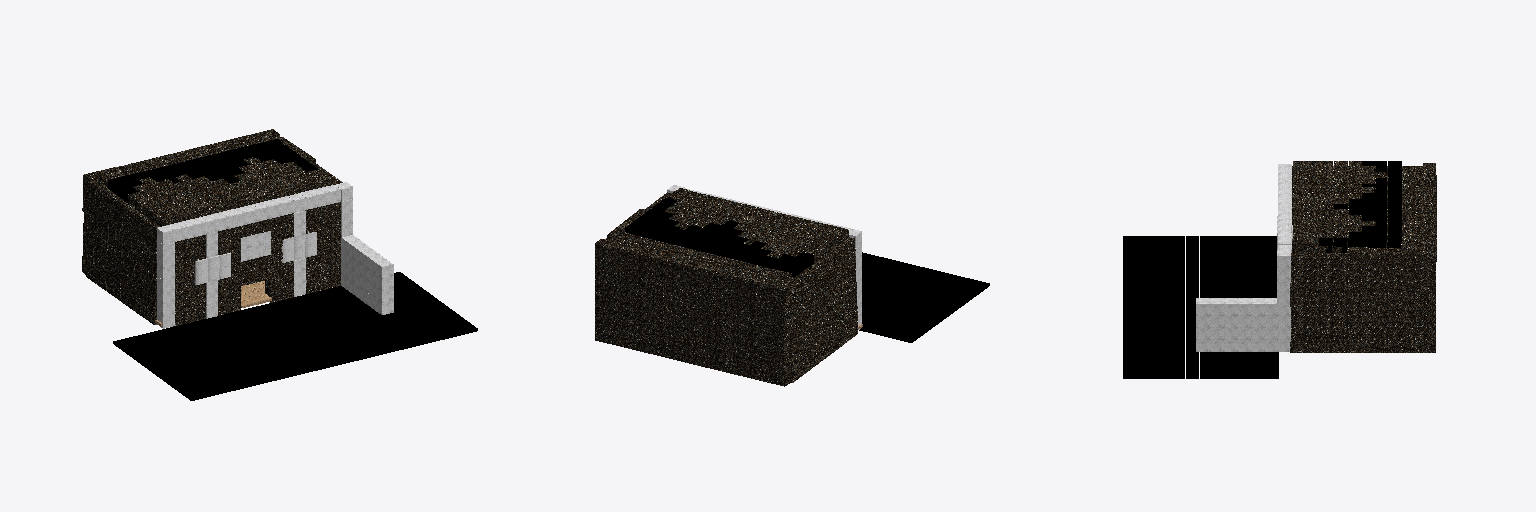
The picture shows the model from 3 angles: view 1: azimuth 30°, elevation 25°; view 2: azimuth 150°, elevation 25°; view 3: azimuth 270°, elevation 25°; orthographic projection.
Visible parts, largest first — view 1: pasted__pasted__pasted__pasted__group46_pasted__group21_pasted__, pasted__group83_pasted__group82_pasted__pasted__pasted__pasted__, pasted__pasted__pasted__pasted__pasted__pasted__pasted__pasted__, group12 pasted__pasted__pasted__group5 pasted__pasted__group7 pa, group97, group126 pasted__pasted__pasted__pasted__pasted__pasted__pasted_, pasted__pasted__pasted__pasted__pasted__pasted__pCube1 pasted__p, pasted__pasted__group5 pasted__group7 group12 pasted__pasted__pa; view 2: pasted__pasted__pasted__pasted__group46_pasted__group21_pasted__, pasted__group83_pasted__group82_pasted__pasted__pasted__pasted__, group18 pasted__pasted__pasted__group5 pasted__pasted__group7 pa, group18 pasted__group12 pasted__pasted__pasted__pasted__group5 p, pasted__pasted__group5 pasted__group7 group18 pasted__pasted__pa; view 3: pasted__pasted__pasted__pasted__group46_pasted__group21_pasted__, pasted__group83_pasted__group82_pasted__pasted__pasted__pasted__, pasted__pasted__pasted__pasted__pasted__pasted__pasted__pasted__, group126 pasted__pasted__pasted__pasted__pasted__pasted__pasted_.
Part boxes in pixels (x1,y1,x2,y2): pasted__pasted__pasted__pasted__group46_pasted__group21_pasted__: (82,129,352,324); pasted__group83_pasted__group82_pasted__pasted__pasted__pasted__: (113,272,477,400); pasted__pasted__pasted__pasted__pasted__pasted__pasted__pasted__: (157,244,367,328); group12 pasted__pasted__pasted__group5 pasted__pasted__group7 pa: (265,250,340,290); group97: (195,253,230,284); group126 pasted__pasted__pasted__pasted__pasted__pasted__pasted_: (368,260,393,290); pasted__pasted__pasted__pasted__pasted__pasted__pCube1 pasted__p: (183,232,316,318); pasted__pasted__group5 pasted__group7 group12 pasted__pasted__pa: (265,274,340,302); pasted__pasted__pasted__pasted__group46_pasted__group21_pasted__: (595,185,861,382); pasted__group83_pasted__group82_pasted__pasted__pasted__pasted__: (859,252,989,342); group18 pasted__pasted__pasted__group5 pasted__pasted__group7 pa: (606,331,772,370); group18 pasted__group12 pasted__pasted__pasted__pasted__group5 p: (606,319,674,346); pasted__pasted__group5 pasted__group7 group18 pasted__pasted__pa: (709,356,773,383); pasted__pasted__pasted__pasted__group46_pasted__group21_pasted__: (1277,161,1436,352); pasted__group83_pasted__group82_pasted__pasted__pasted__pasted__: (1123,236,1278,378); pasted__pasted__pasted__pasted__pasted__pasted__pasted__pasted__: (1223,316,1290,327); group126 pasted__pasted__pasted__pasted__pasted__pasted__pasted_: (1196,298,1222,327).
Size of the model in its own units: 24.56 by 8.65 by 23.34.
Materials: 938 (4 with a texture image).